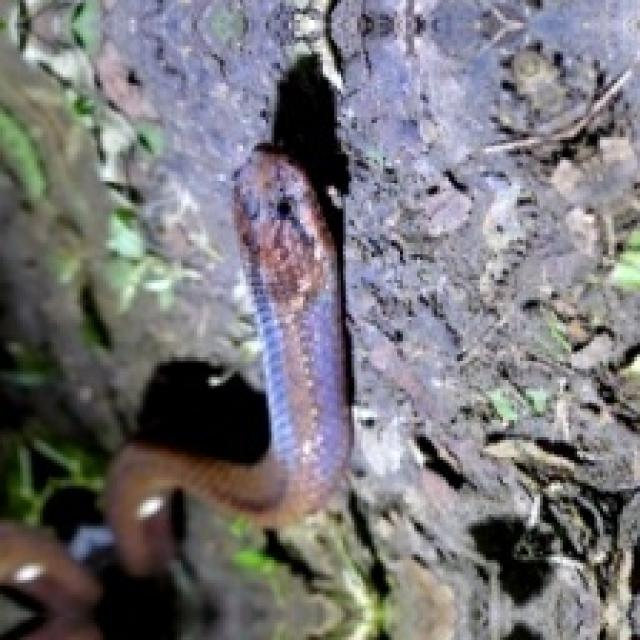reinhardts lined snake: (109, 146, 349, 574)
